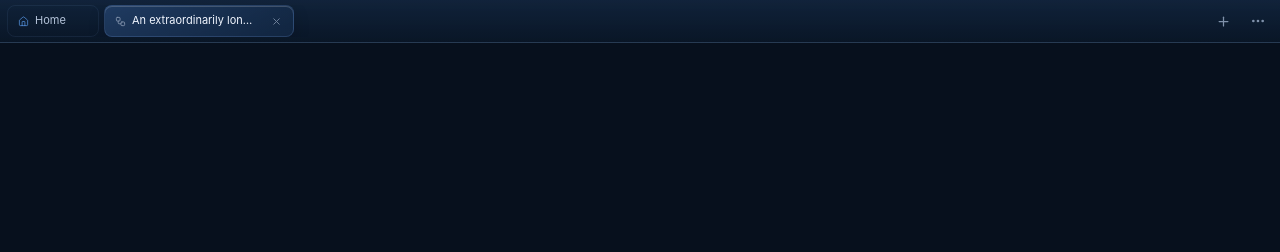
Scenario: workspace tab close controls › Escape dismisses the menu and returns focus to the originating tab
The image size is (1280, 252).
Step 1. Right-click the tab "An extraordinarily long" → (199, 21), box x1=104 y1=5 x2=294 y2=37
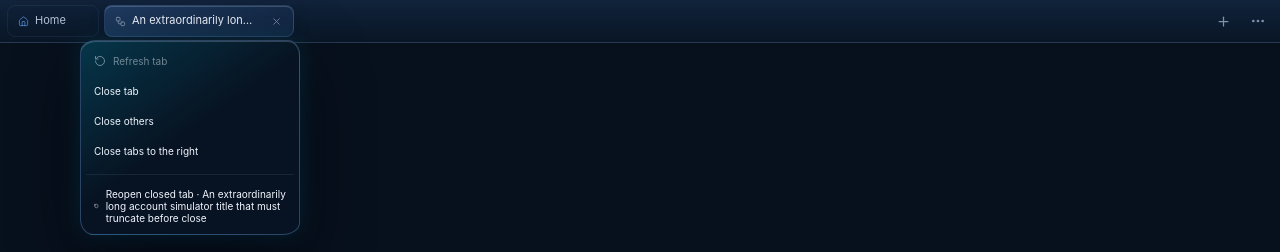
Step 2. Press Escape
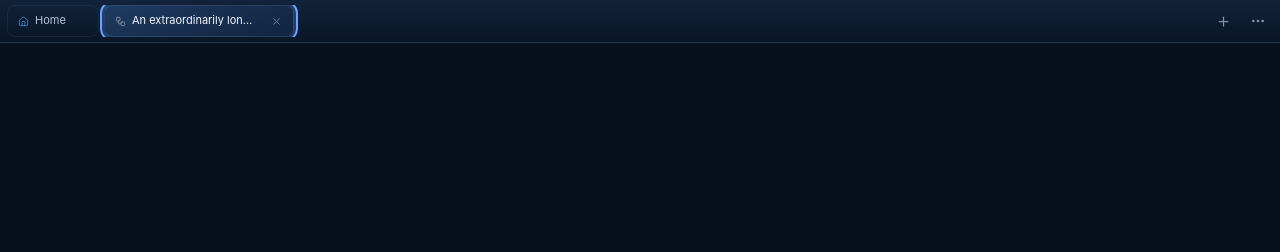
Now the menu is gone
